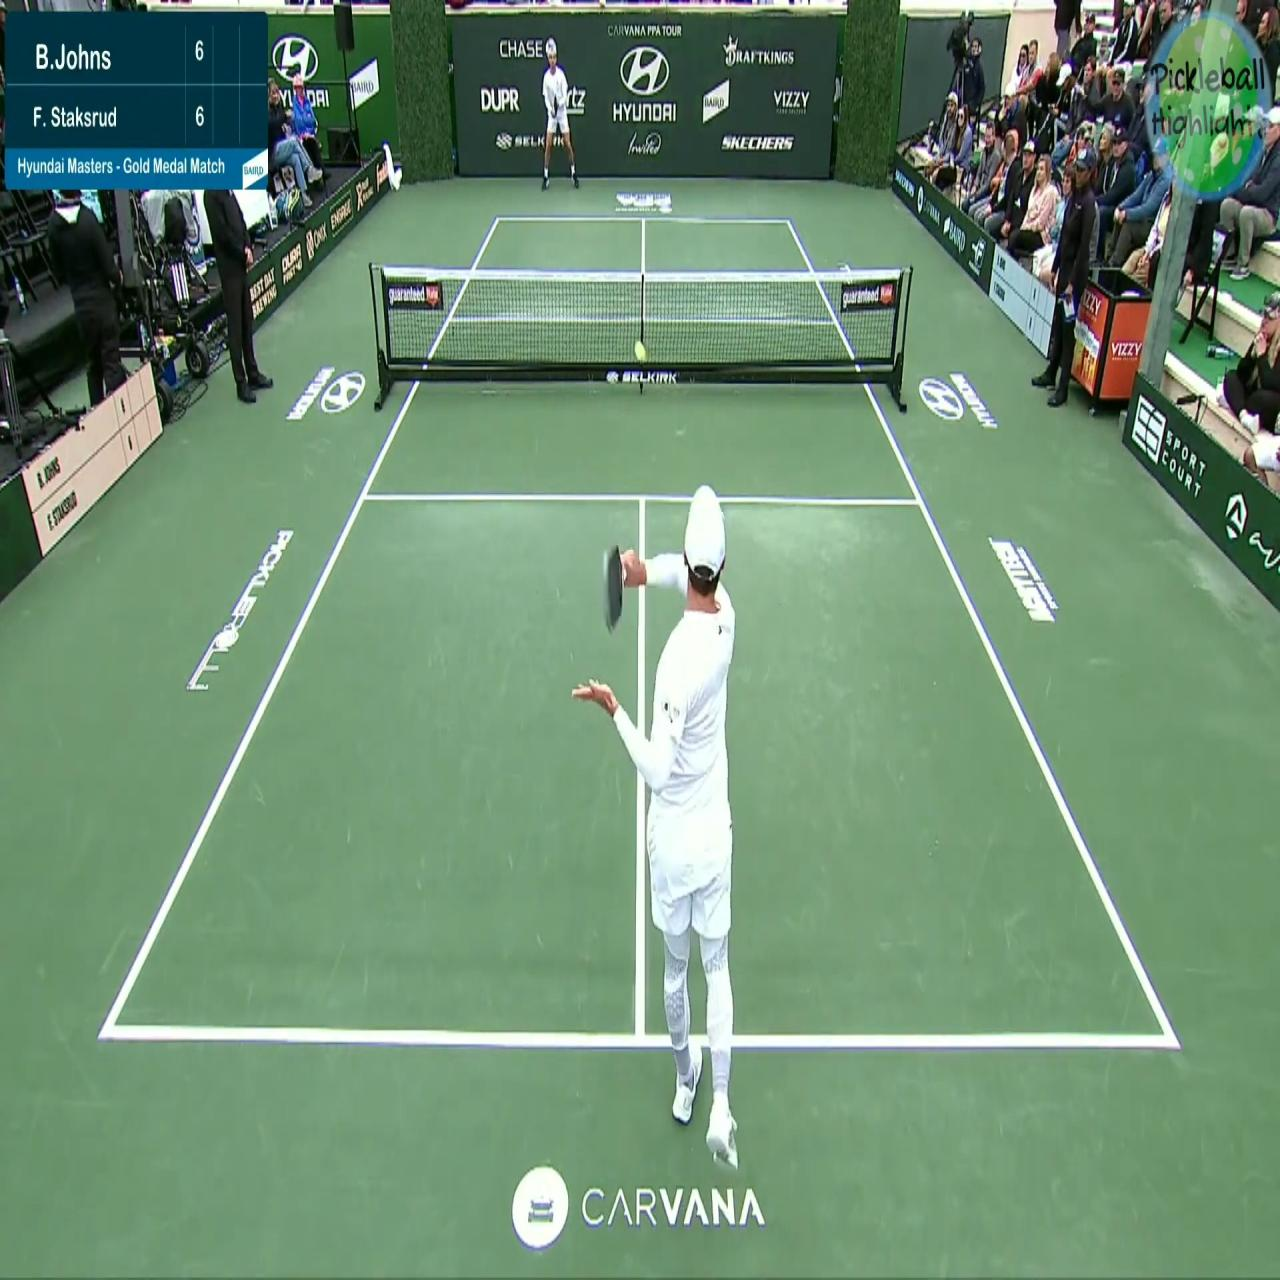pickleball: (634, 340, 646, 362)
